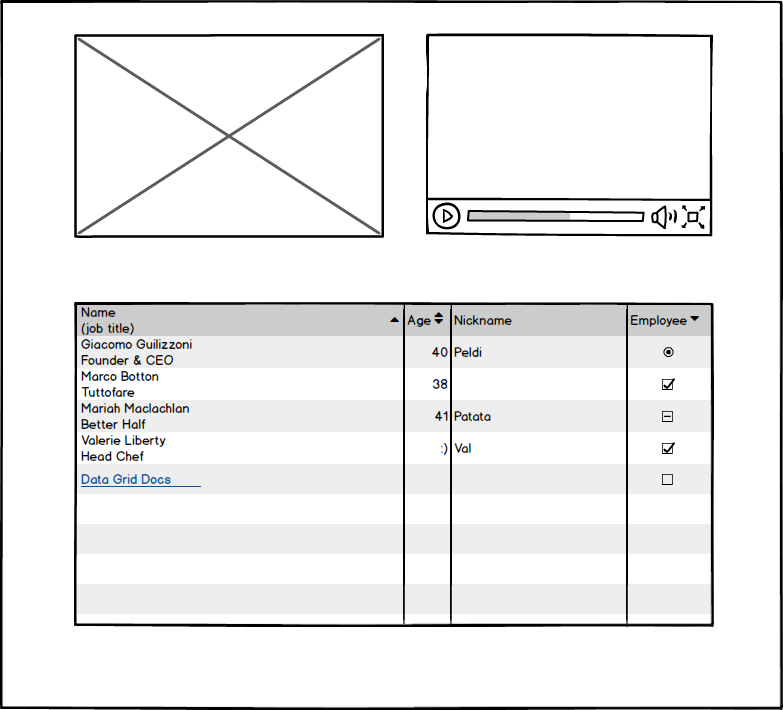image: (65, 28, 391, 245)
table: (70, 296, 716, 631)
video: (421, 30, 717, 241)
